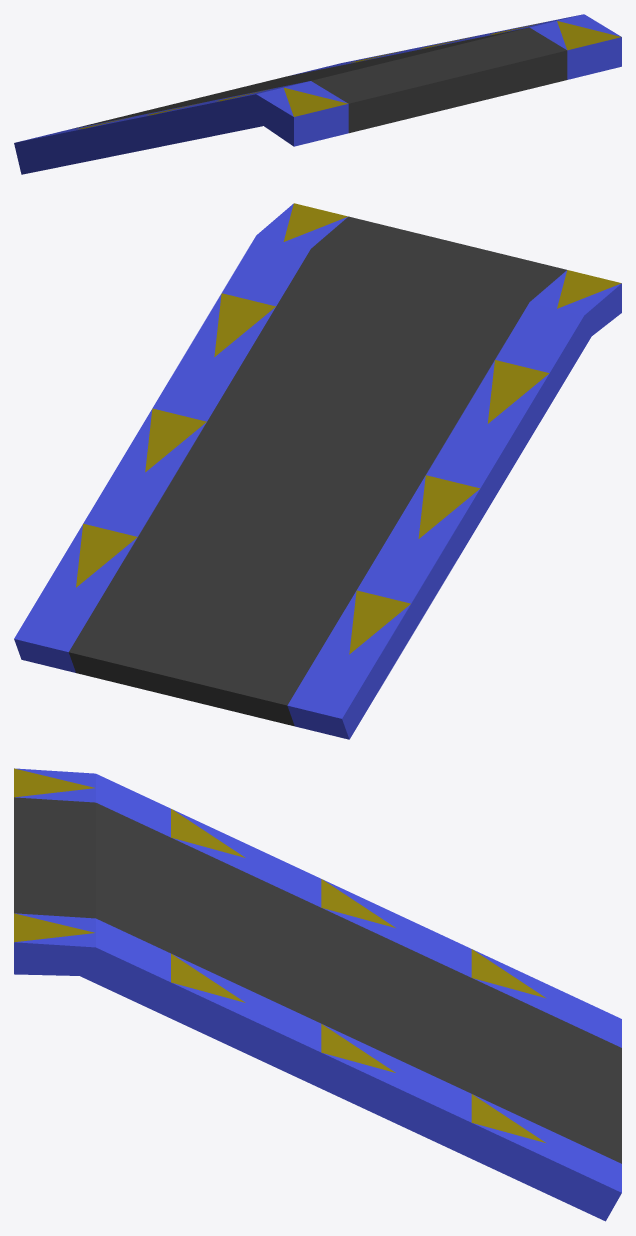
The model's file is Plataforma inclinada.fbx.
The picture shows the model from 3 angles, top to bottom: view 1: azimuth 30°, elevation 25°; view 2: azimuth 150°, elevation 25°; view 3: azimuth 270°, elevation 25°; orthographic projection. The views are drawn at different scales.
Parts seen in each view (by area): view 1: Plane.004; view 2: Plane.004; view 3: Plane.004.
Part boxes in pixels (x1=…): Plane.004: x1=14, y1=14, x2=621, y2=174; Plane.004: x1=14, y1=203, x2=621, y2=739; Plane.004: x1=14, y1=768, x2=621, y2=1221.
Bounding box in the file's own units: 301 × 225 × 445.
